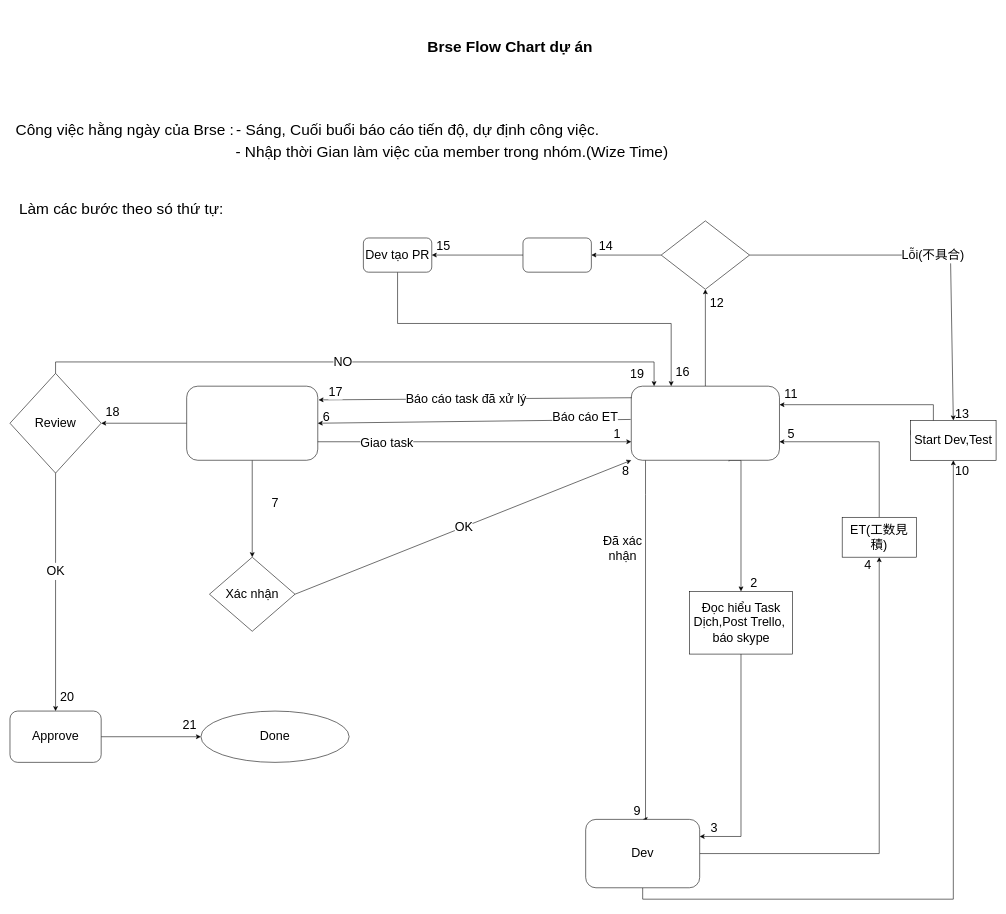
Some shapes in this 1006 by 914 pixel diagram are drawn without their labels. Each missing label, with the box of its shape:
Brse: (631, 386, 779, 460)
Brse Test: (661, 220, 750, 289)
Khách hàng: (186, 386, 318, 460)
Nghiệm thu: (522, 237, 591, 272)
